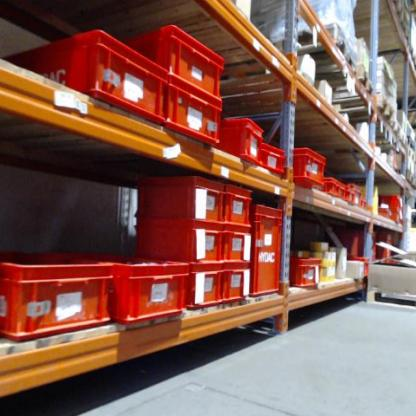pallet: (251, 20, 354, 90), (316, 95, 398, 131), (368, 119, 410, 151), (355, 60, 370, 114)
small_load_carrier: (1, 30, 167, 129), (38, 248, 191, 327), (1, 253, 113, 345), (121, 23, 226, 96), (138, 173, 226, 226), (161, 76, 222, 147), (134, 217, 224, 265), (244, 201, 282, 302), (209, 114, 265, 170), (181, 263, 227, 317), (288, 144, 327, 188), (220, 188, 255, 230), (287, 252, 320, 292), (220, 230, 256, 266), (221, 264, 253, 303), (260, 140, 285, 173), (325, 173, 346, 201), (346, 257, 373, 277), (375, 192, 406, 209), (349, 179, 363, 205), (374, 206, 394, 217), (393, 210, 407, 225), (346, 187, 351, 205)
